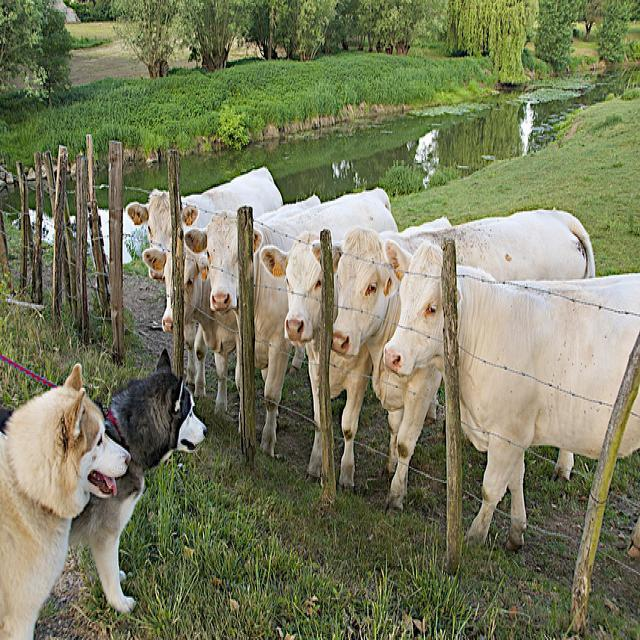cow: (381, 246, 639, 545), (334, 201, 593, 492), (183, 186, 399, 453), (259, 216, 443, 481), (142, 190, 320, 409), (126, 164, 282, 394)
